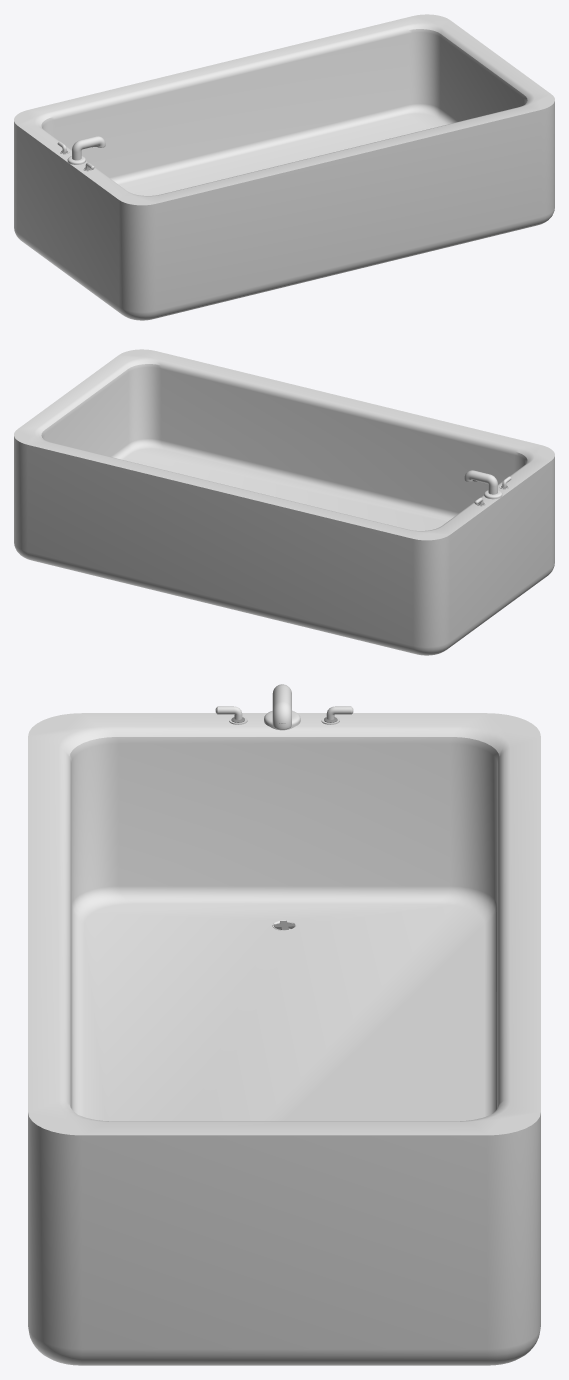
Rendered from Bathtub.fbx.
3 views of the same model, one above another, from view 1: azimuth 30°, elevation 25°; view 2: azimuth 150°, elevation 25°; view 3: azimuth 270°, elevation 25° (orthographic). The views are drawn at different scales.
Parts seen in each view (by area): view 1: Bathtub; view 2: Bathtub; view 3: Bathtub.
Part boxes in pixels (<box>): Bathtub: <box>14,14,554,320</box>; Bathtub: <box>14,349,554,655</box>; Bathtub: <box>28,684,540,1365</box>.
Size of the model in its own units: 868 by 267 by 445.
